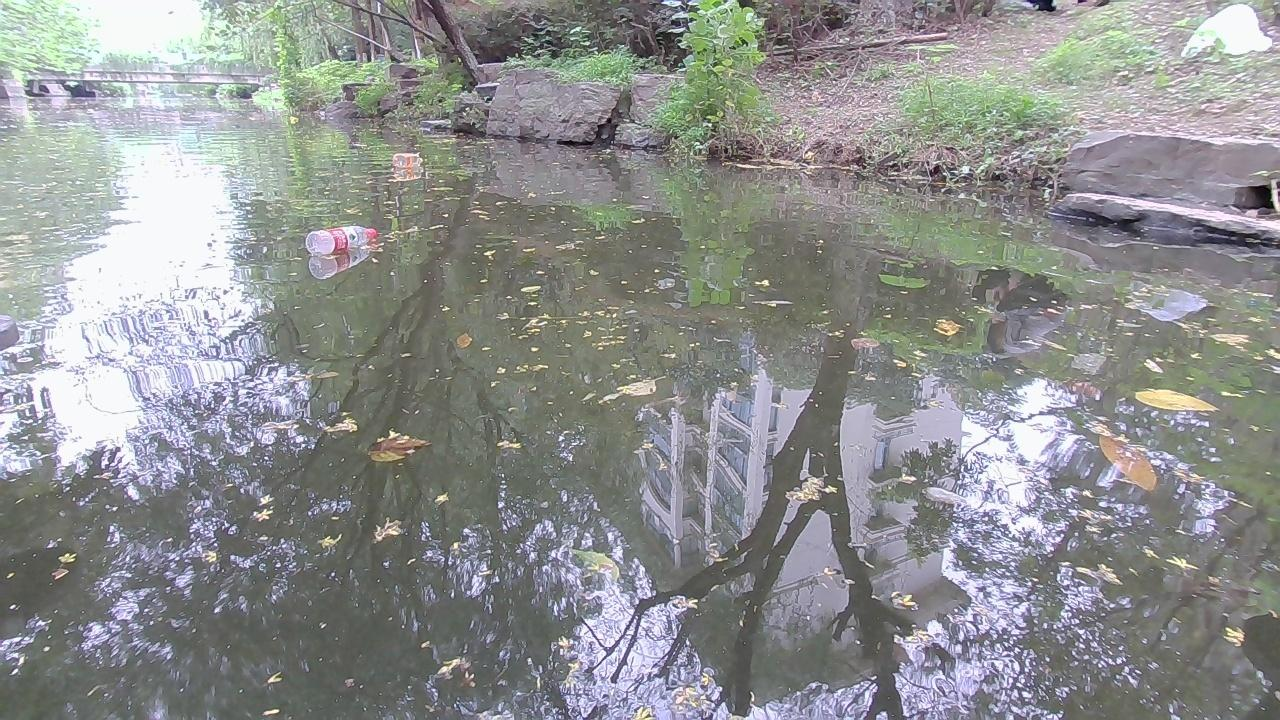bottle: (302, 222, 380, 255), (390, 150, 424, 165), (286, 114, 300, 122)
